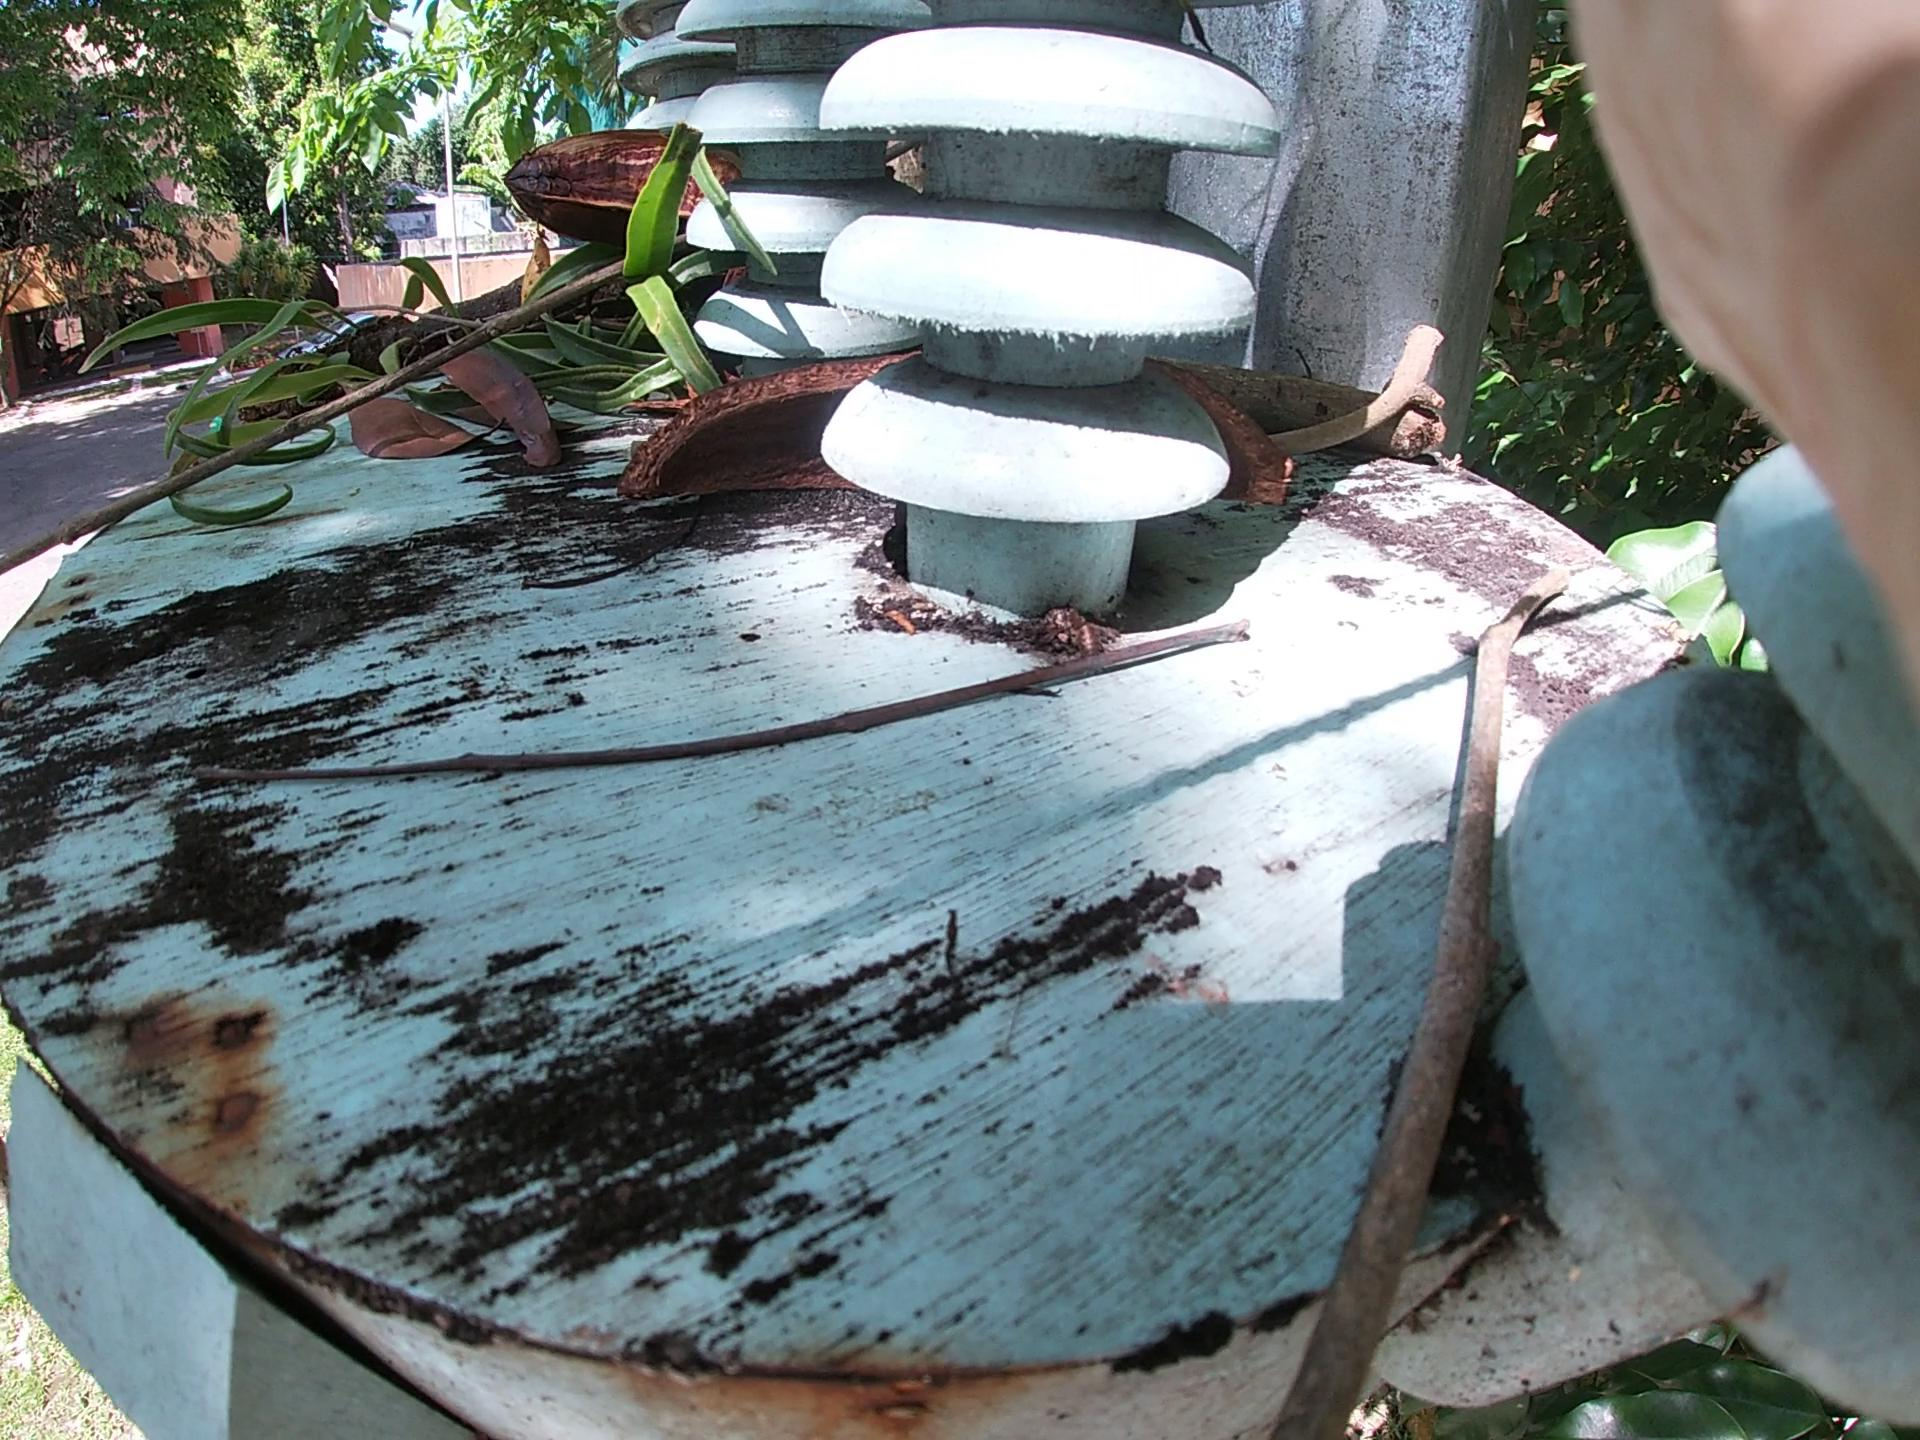branch with leaves: (129, 2, 1211, 424)
leaf: (357, 342, 677, 498)
mahogany fruit: (633, 312, 1170, 513), (478, 109, 845, 312)
tree branch: (23, 231, 659, 563), (292, 613, 1231, 800), (1312, 588, 1522, 1370), (1228, 346, 1380, 507)
